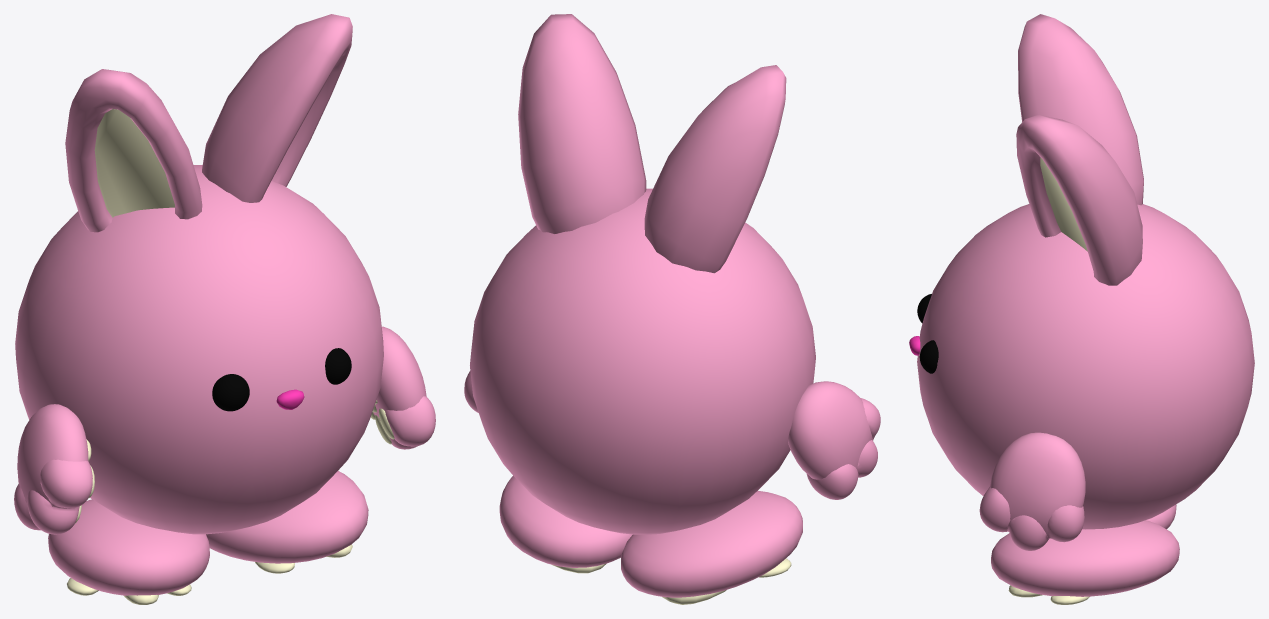
The model's file is bunny.glb.
The picture shows the model from 3 angles, left to right: view 1: azimuth 30°, elevation 25°; view 2: azimuth 150°, elevation 25°; view 3: azimuth 270°, elevation 25°; orthographic projection. The views are drawn at different scales.
Parts seen in each view (by area): view 1: Sphere.003, Cube.001, Sphere.004, Cube.012, Sphere.002, Cube.017, Cube.023, Sphere, Sphere.001; view 2: Sphere.003, Cube.001, Sphere.004, Cube.012, Sphere.002; view 3: Sphere.003, Cube.001, Sphere.002, Cube.023, Cube.017, Sphere.001.
Part boxes in pixels (x1,y1,x2,y2): Sphere.003: (15, 165, 383, 534); Cube.001: (65, 14, 352, 232); Sphere.004: (48, 499, 209, 595); Cube.012: (14, 404, 92, 534); Sphere.002: (206, 471, 368, 563); Cube.017: (94, 109, 174, 217); Cube.023: (373, 326, 435, 449); Sphere: (212, 374, 249, 411); Sphere.001: (325, 348, 351, 384); Sphere.003: (470, 188, 815, 534); Cube.001: (518, 14, 786, 273); Sphere.004: (621, 491, 802, 597); Cube.012: (788, 381, 880, 499); Sphere.002: (499, 476, 632, 567); Sphere.003: (917, 204, 1254, 529); Cube.001: (1016, 14, 1143, 285); Sphere.002: (991, 520, 1179, 596); Cube.023: (979, 432, 1085, 550); Cube.017: (1040, 157, 1087, 251); Sphere.001: (919, 340, 938, 373).
Size of the model in its own units: 2.54 by 3.23 by 2.05.
